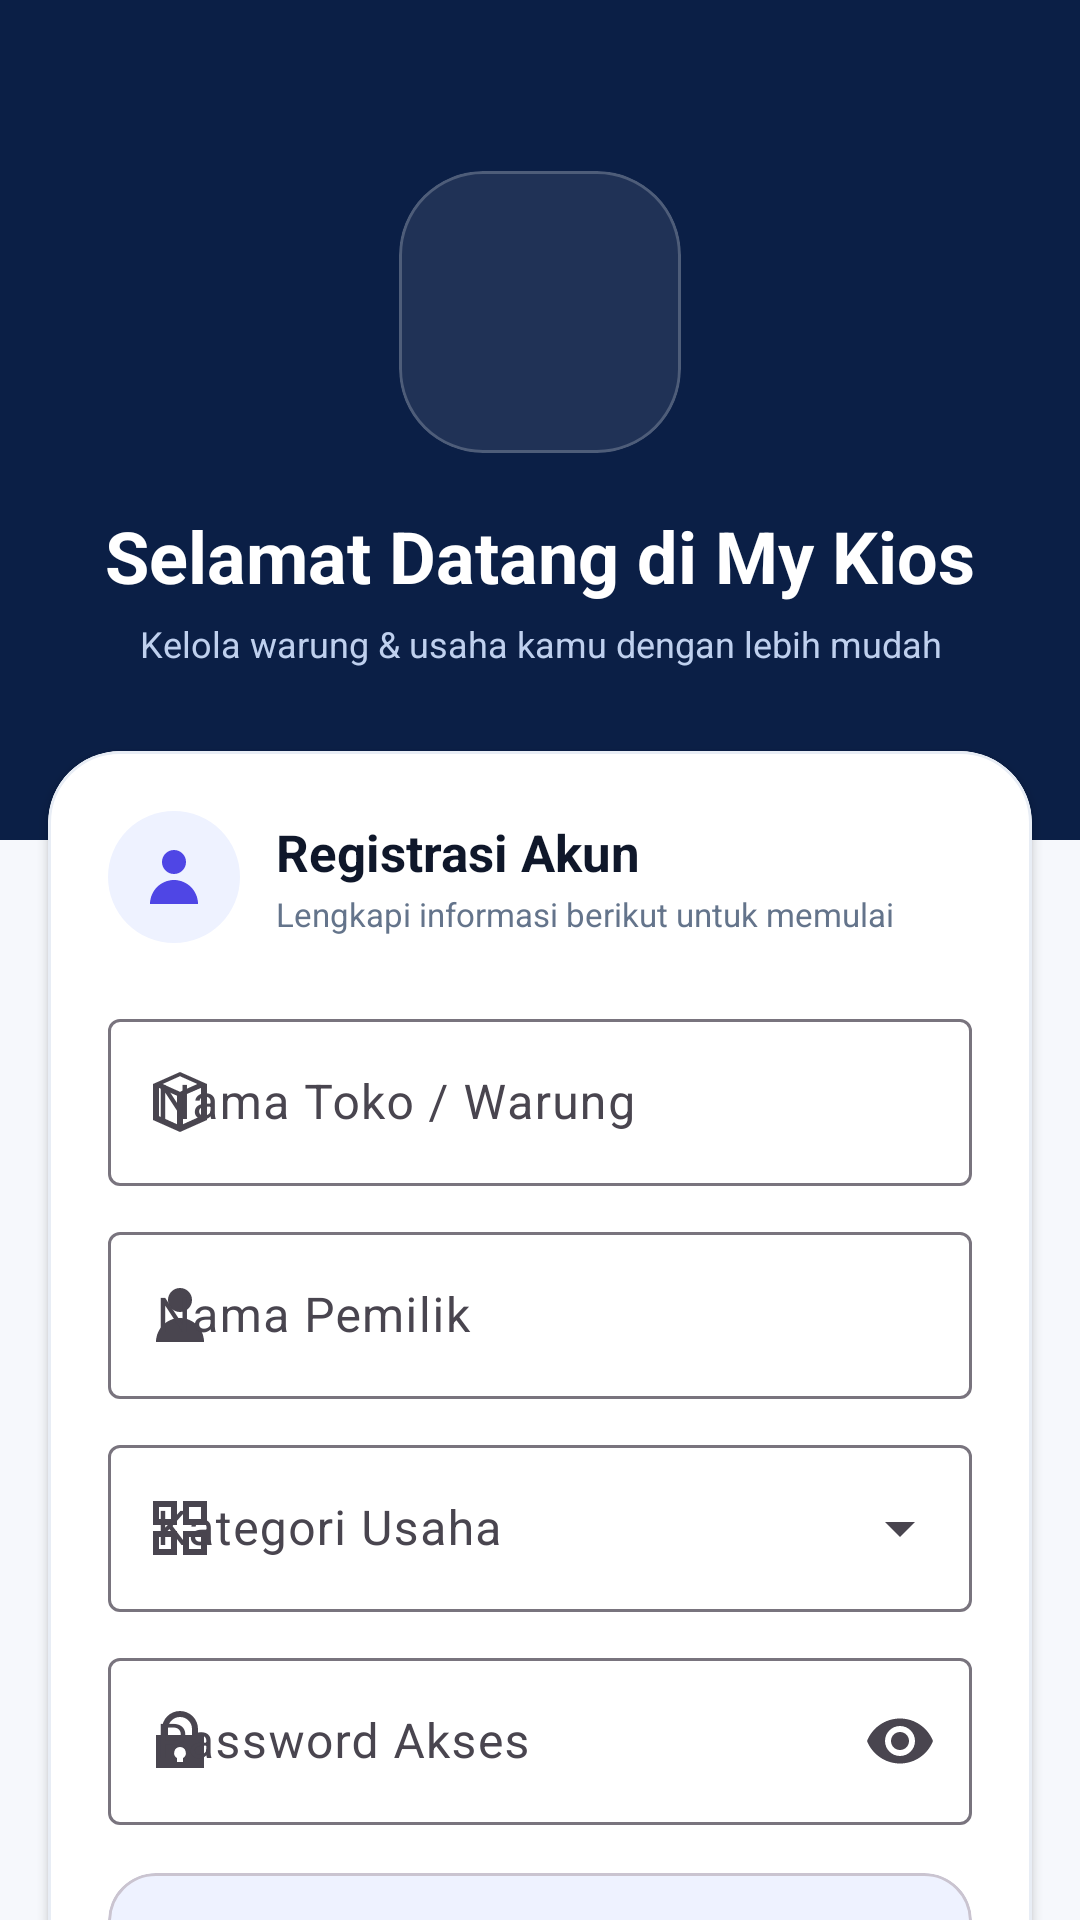

Named icons in this screenshot (1080w x 1920h) and their bounding boxes, (x1=x1, y1=y1, x2=x2, y2=y2):
account: (x1=150, y1=850, x2=198, y2=904)
